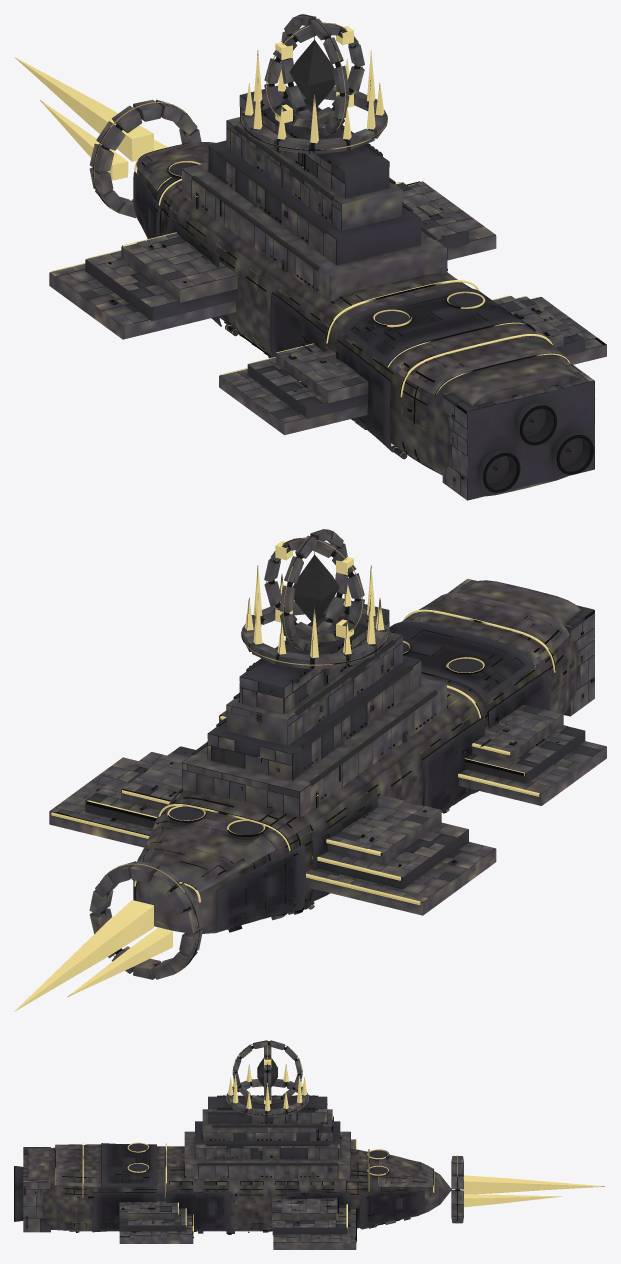
File: god_ark_hero.glb
The picture shows the model from 3 angles, top to bottom: view 1: azimuth 30°, elevation 25°; view 2: azimuth 150°, elevation 25°; view 3: azimuth 270°, elevation 25°; orthographic projection. The views are drawn at different scales.
Visible parts, largest first — view 1: HullBaked; view 2: HullBaked; view 3: HullBaked.
Boxes of the visible parts, box(x1,y1,x2,y2) form: HullBaked: box(14, 14, 606, 500); HullBaked: box(14, 529, 606, 1011); HullBaked: box(14, 1040, 605, 1249).
Size of the model in its own units: 148 by 121 by 360.
Materials: 1 (1 with a texture image).
